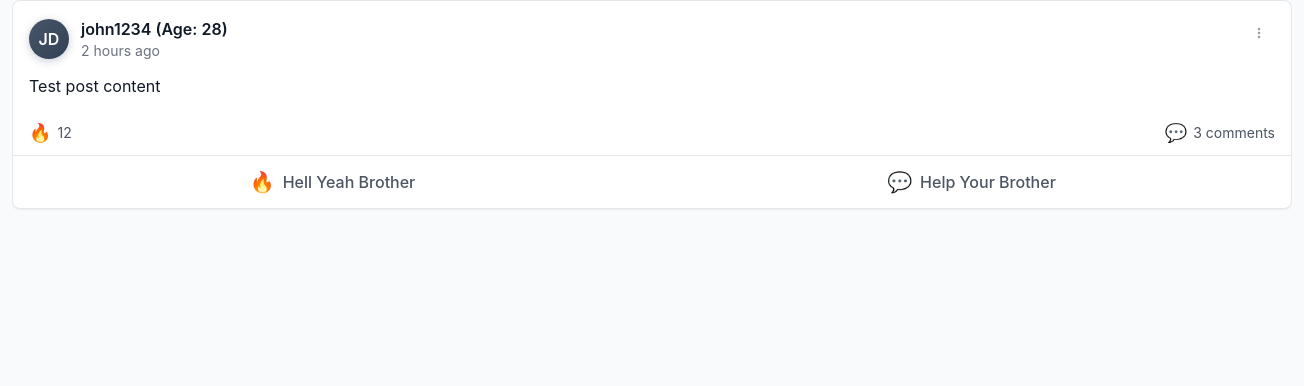
Test: Post Component › Comments Section › should display comment actions (time, Helpful, Reply)
Step 1. Click the button labelled "💬 Help Your Brother" → click(972, 182), box [652,160,1291,204]
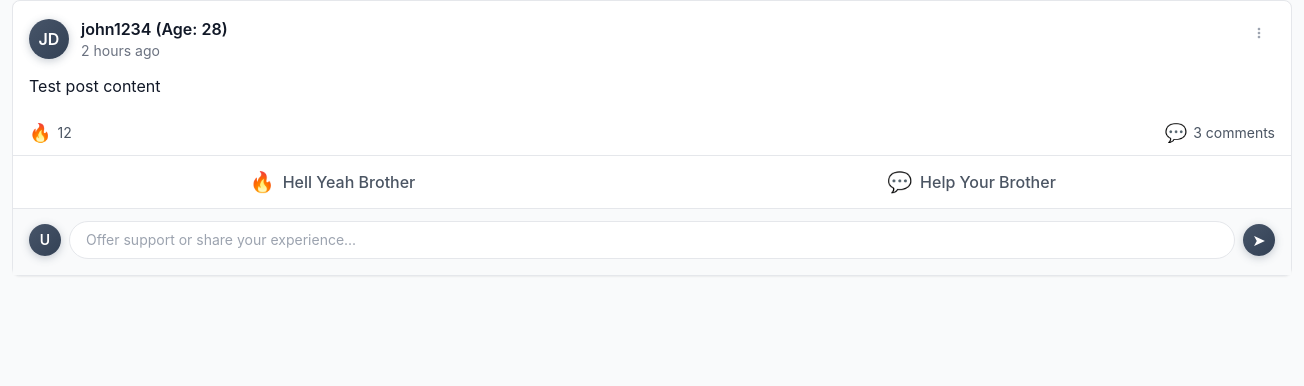
Step 2. Type "Test comment" into the field named "write a comment" → (652, 240), box [69,221,1235,259]
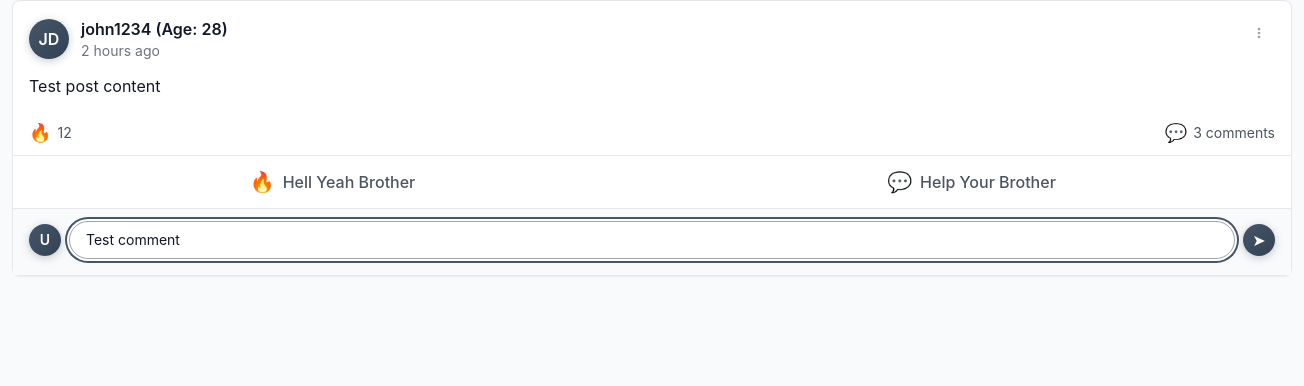
Step 3. Click the button named "submit comment" → click(1259, 240), box [1243,224,1275,256]
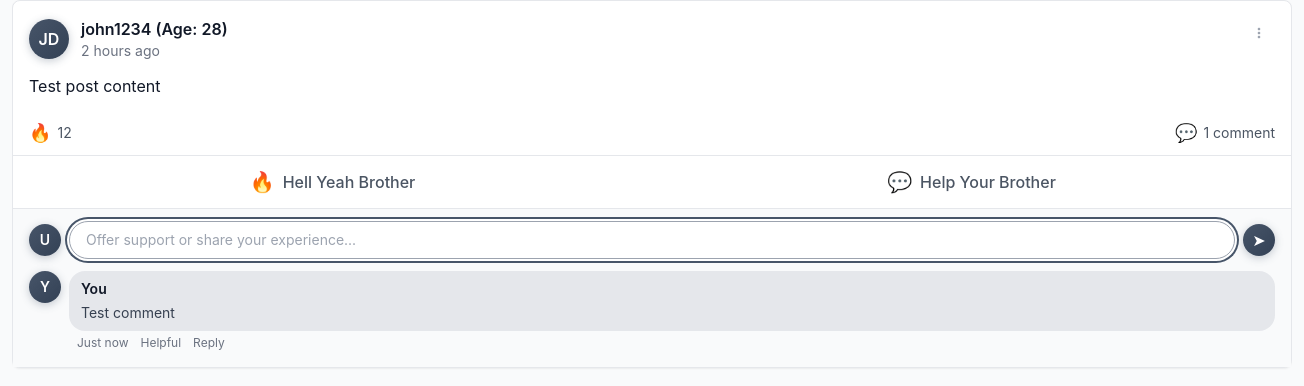
Result: the text "Just now" is shown at [77,335,128,351]
Result: the button "Helpful" is shown at [140,335,181,351]
Result: the button "Reply" is shown at [193,335,225,351]
